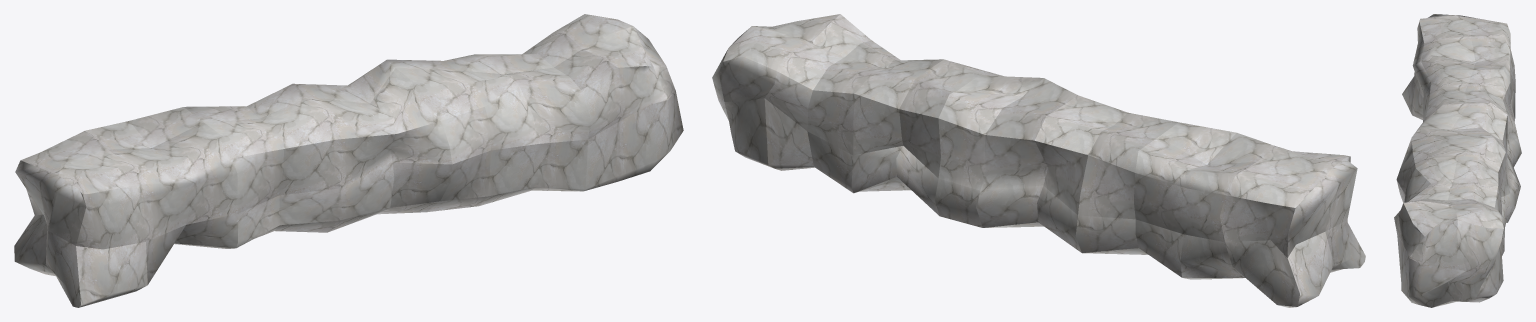
Rendered from Rock_Wall.fbx.
3 renders of one model, left to right at view 1: azimuth 30°, elevation 25°; view 2: azimuth 150°, elevation 25°; view 3: azimuth 270°, elevation 25°, orthographic. The views are drawn at different scales.
Visible parts, largest first — view 1: pCube1; view 2: pCube1; view 3: pCube1.
Boxes of the visible parts, bbox=[...] form: pCube1: bbox=[14, 14, 683, 307]; pCube1: bbox=[712, 14, 1365, 307]; pCube1: bbox=[1394, 14, 1521, 307].
Bounding box in the file's own units: 829 × 169 × 201.
Materials: 1 (1 with a texture image).
